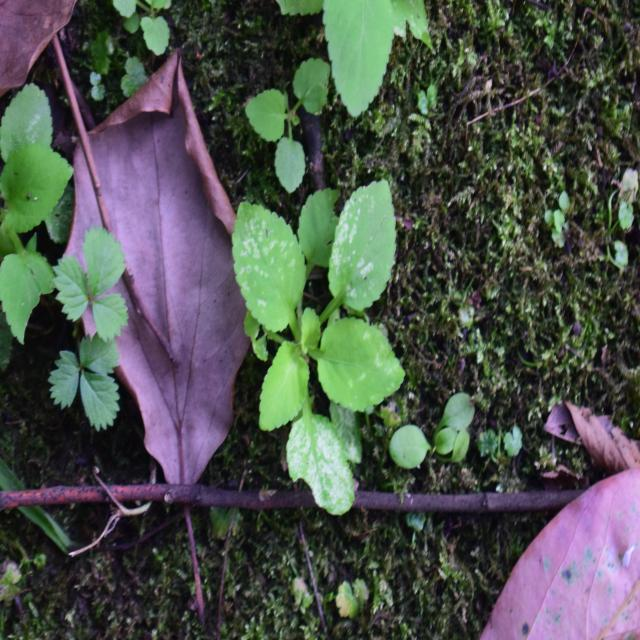Viola: (218, 189, 400, 534)
